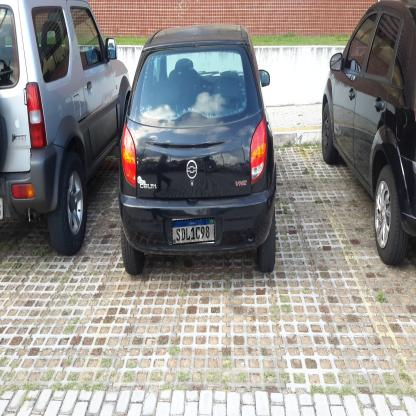PlacaM: (172, 217, 215, 245)
